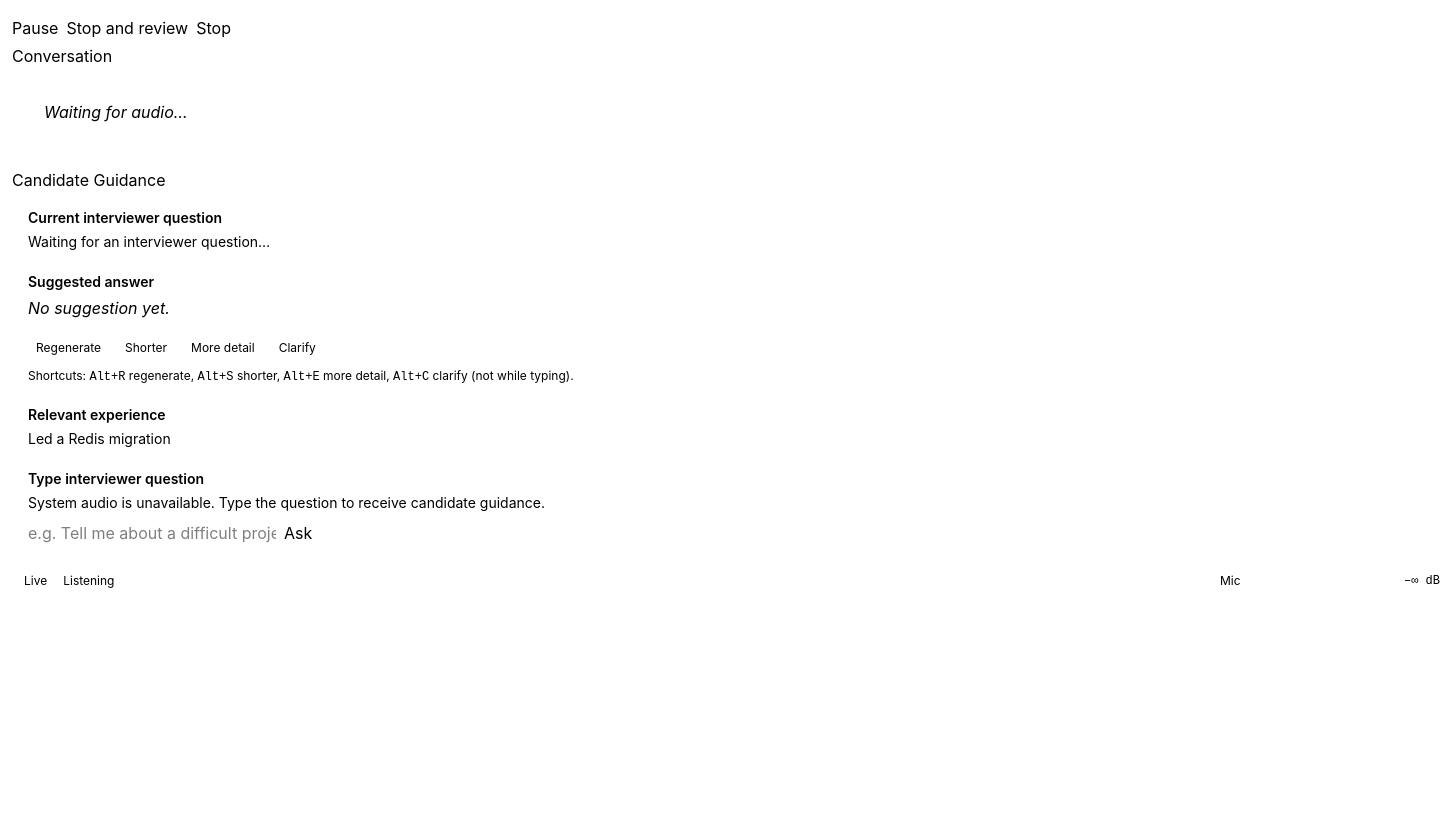
Scenario: submits typed questions and blocks them while paused
Click the button "Pause".
click(35, 28)  # box [12, 12, 58, 44]
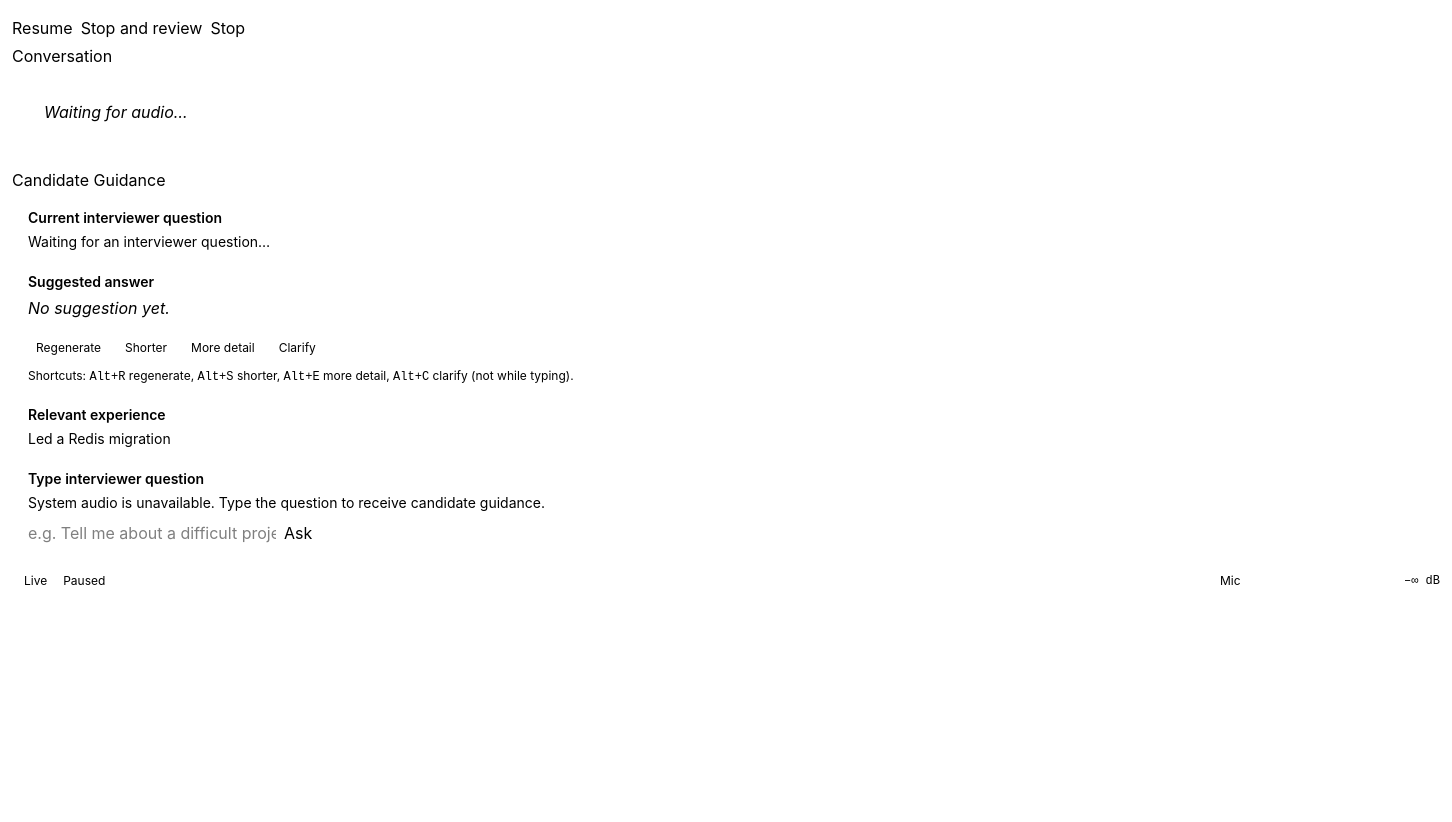
Now the text "Paused" is shown, box [63, 573, 105, 589]
Type "Ignored while paused?" into the field named "Interviewer question".
click(152, 533); type("Ignored while paused?")  # box [28, 521, 276, 545]
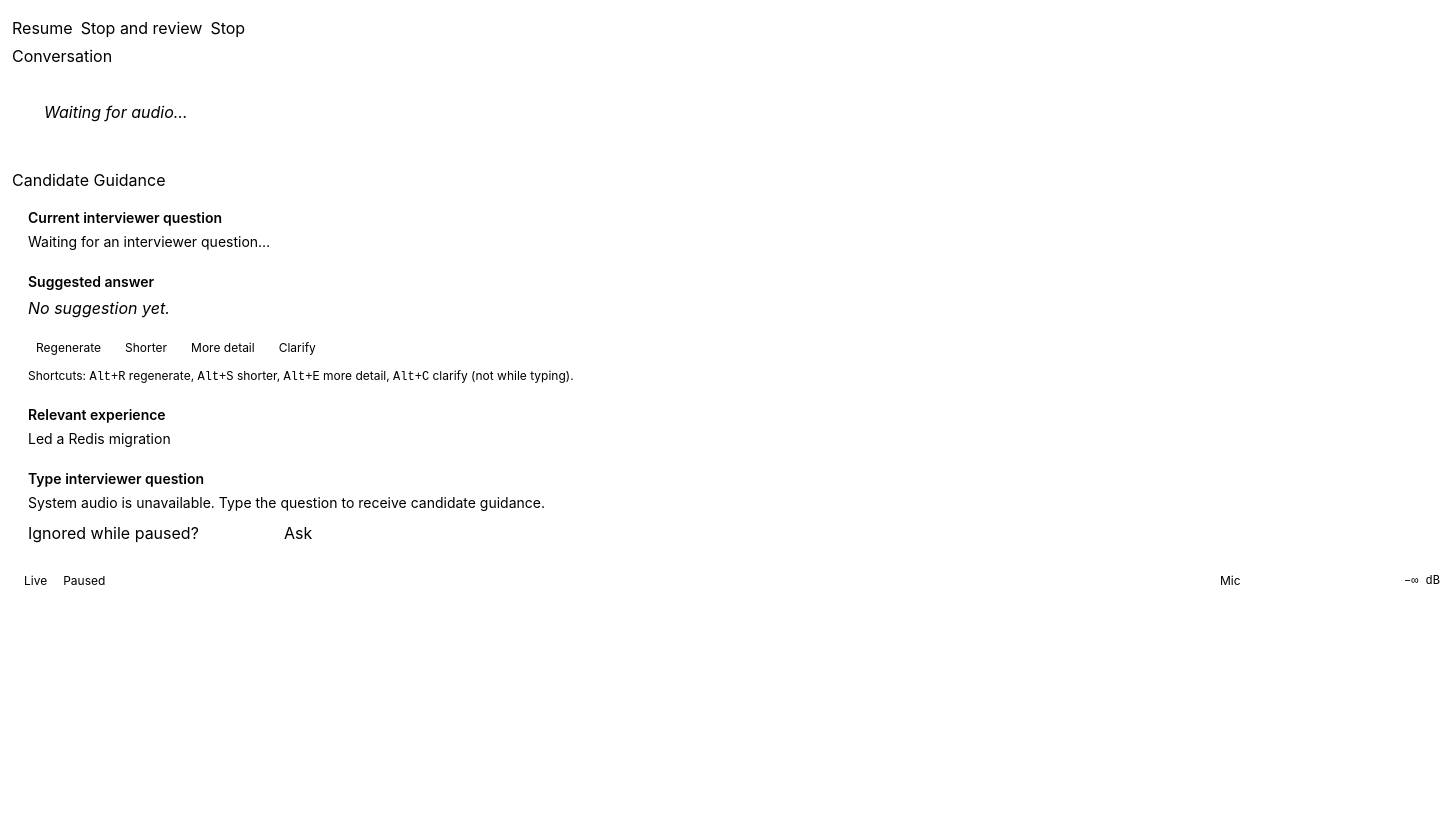
Click the button "Ask".
click(298, 533)  # box [284, 521, 312, 545]
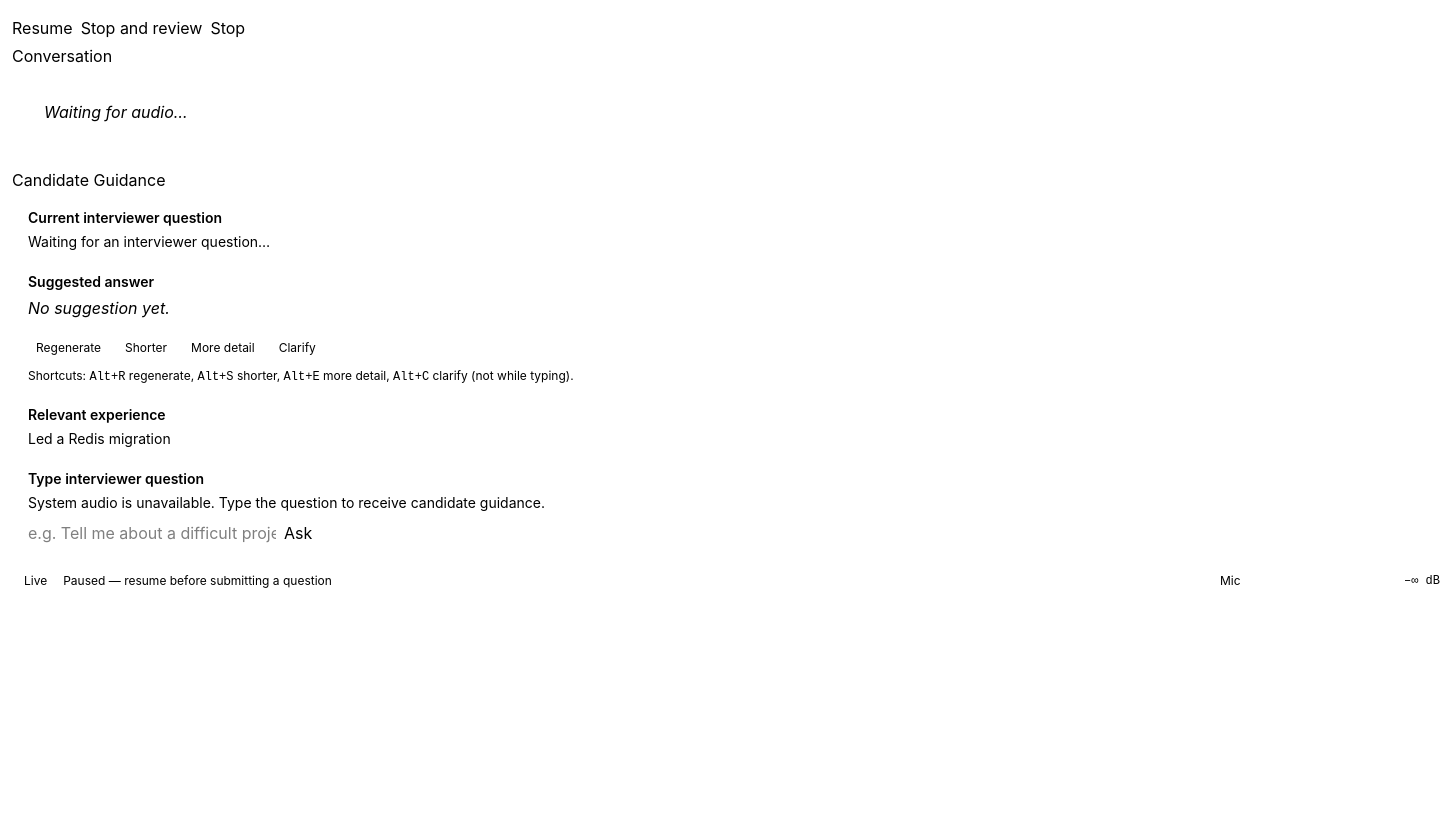
Now the text "Paused — resume before submitting a question" is shown, box [63, 573, 332, 589]
Click the button "Resume".
click(42, 28)  # box [12, 12, 73, 44]
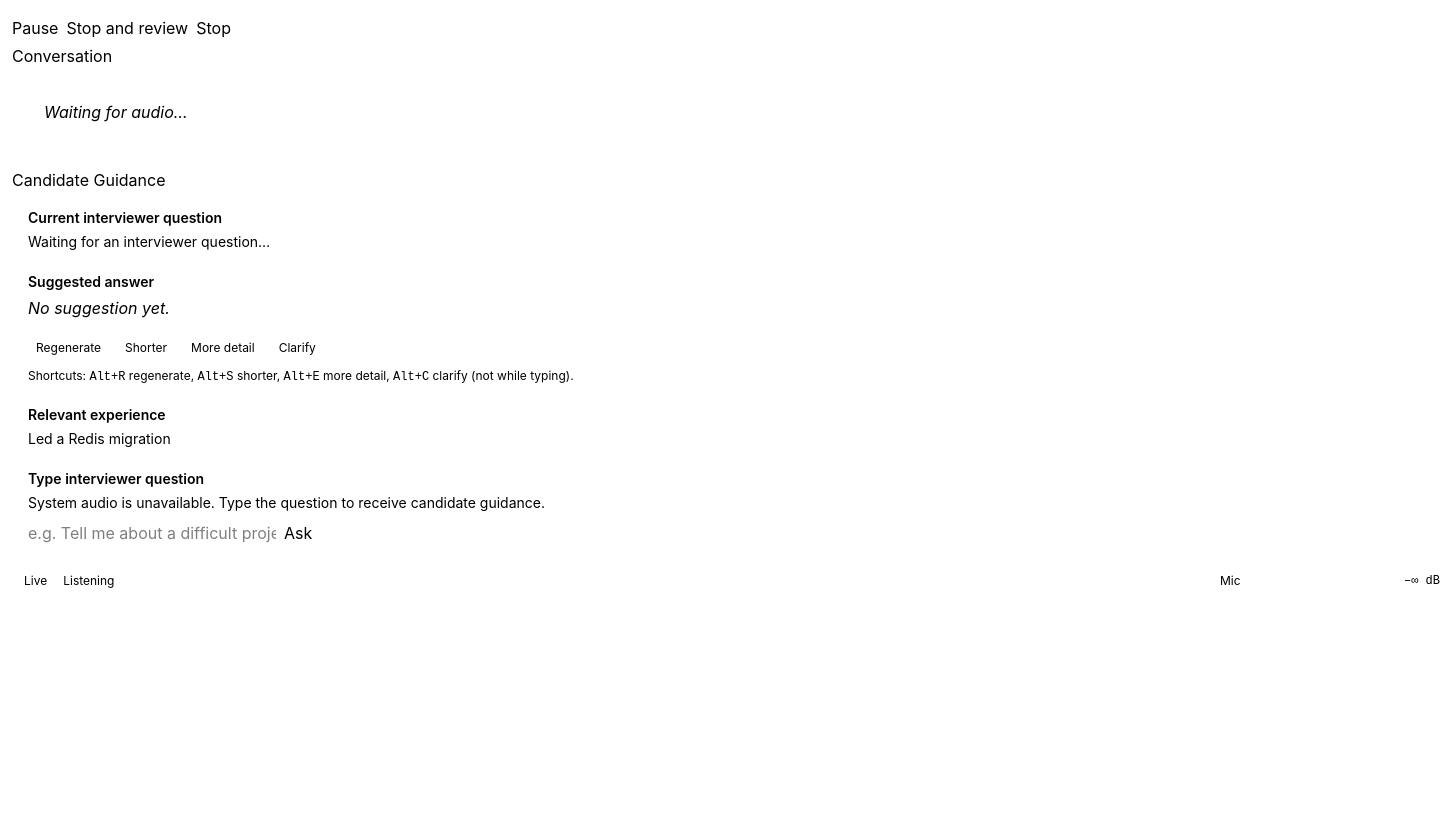
Type "How did you lead the migration?" into the field named "Interviewer question".
click(152, 533); type("How did you lead the migration?")  # box [28, 521, 276, 545]
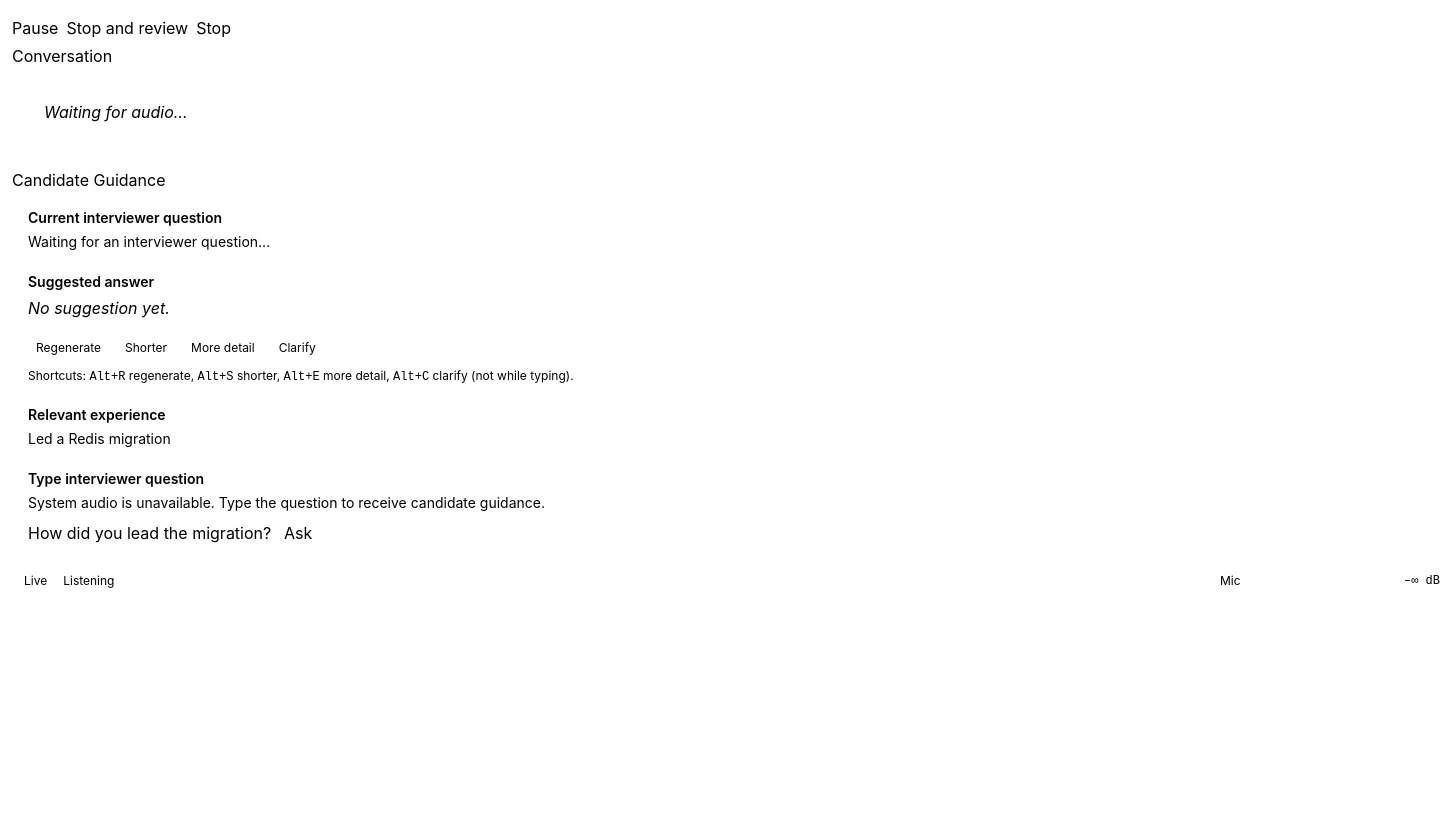
Click the button "Ask".
click(298, 533)  # box [284, 521, 312, 545]
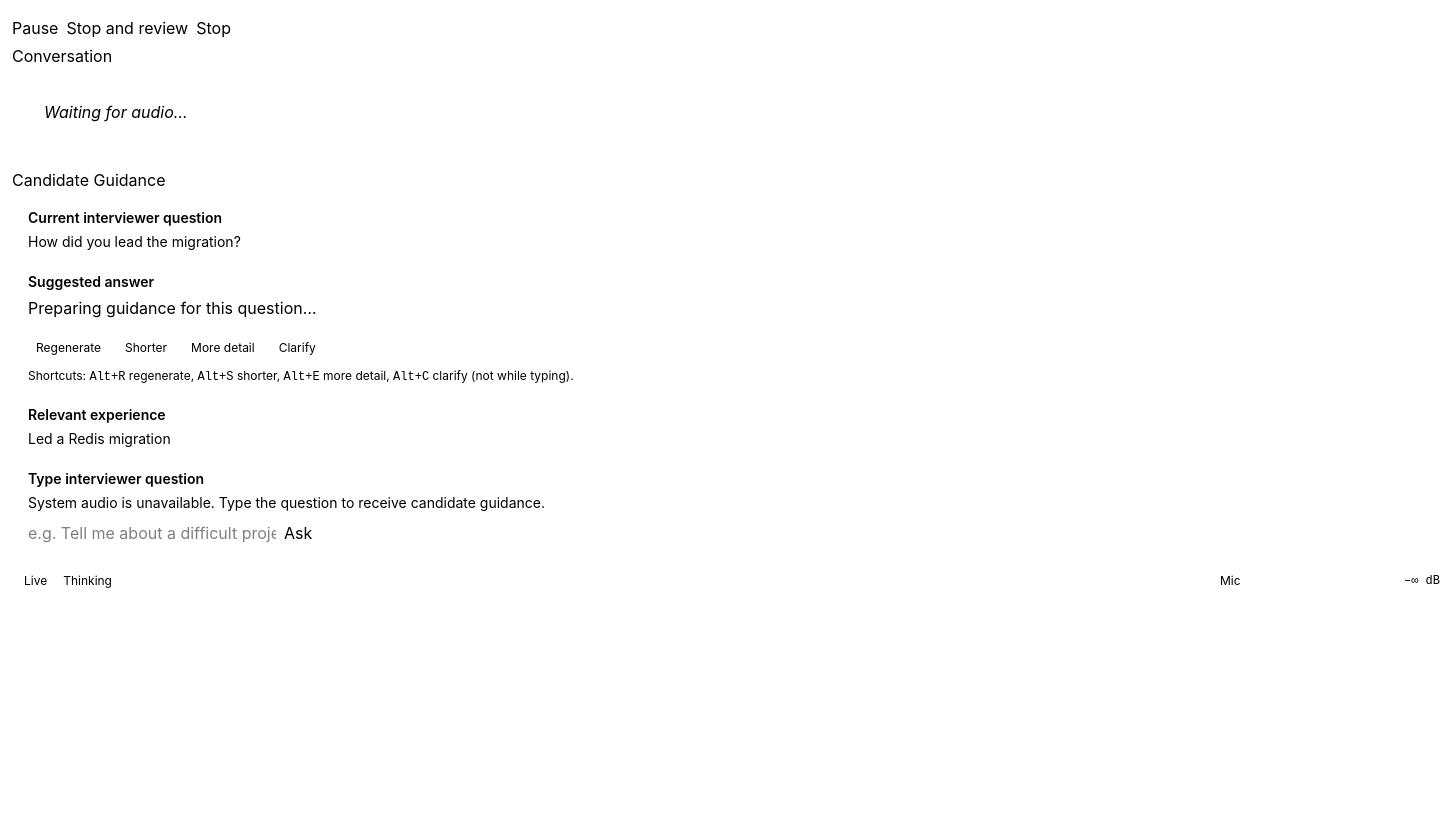
Now the text "How did you lead the migration?" is shown, box [28, 233, 241, 250]
Now the text "Thinking" is shown, box [63, 573, 112, 589]
